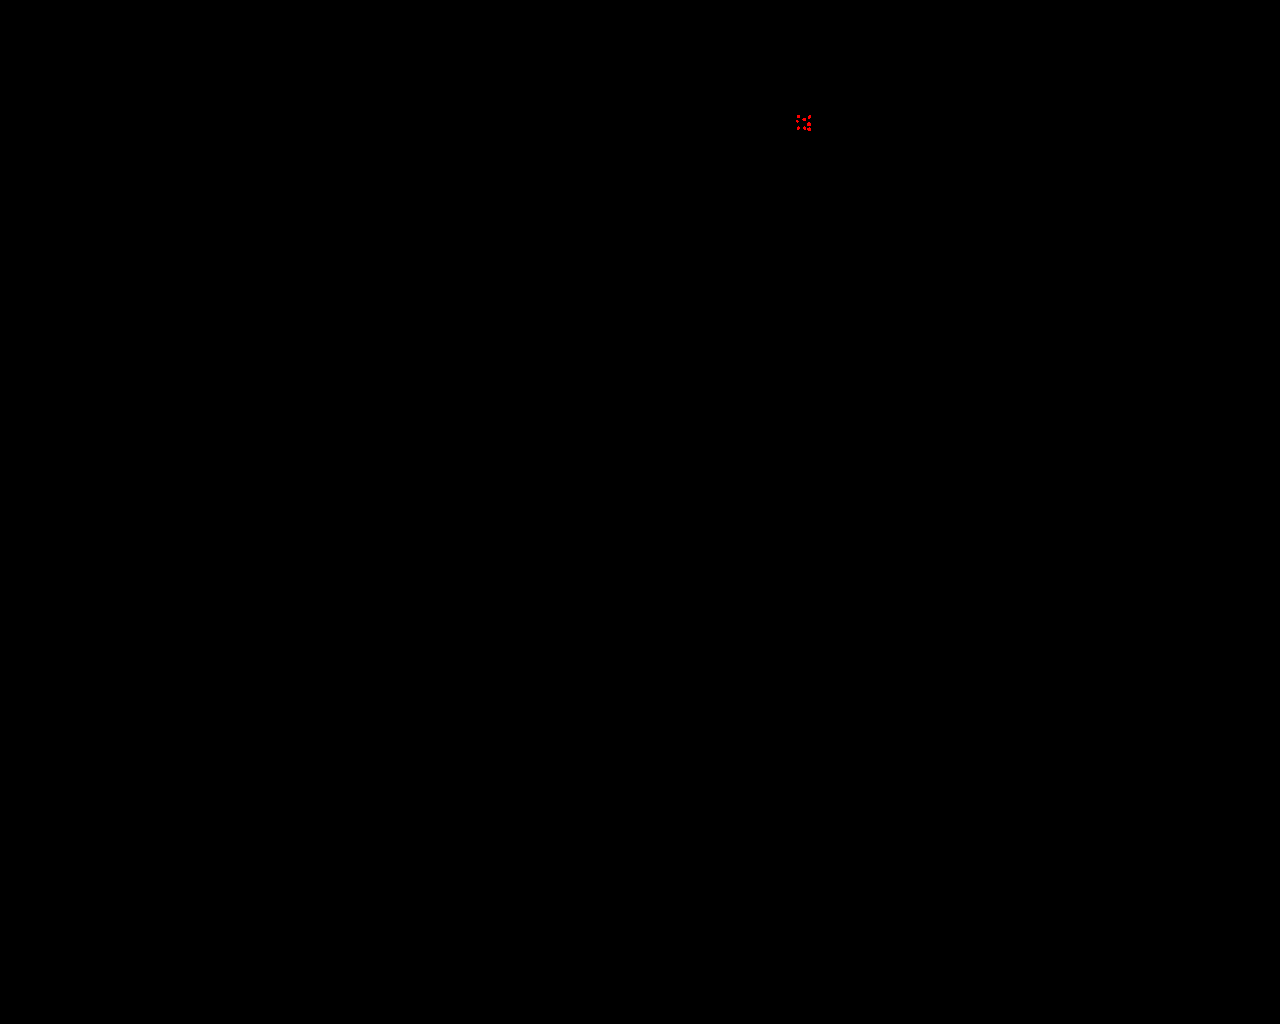Target: (807, 122, 811, 126), (808, 115, 811, 119), (807, 127, 811, 131), (797, 115, 800, 118), (802, 118, 806, 121), (796, 120, 799, 123), (797, 126, 800, 130), (802, 126, 806, 130)
